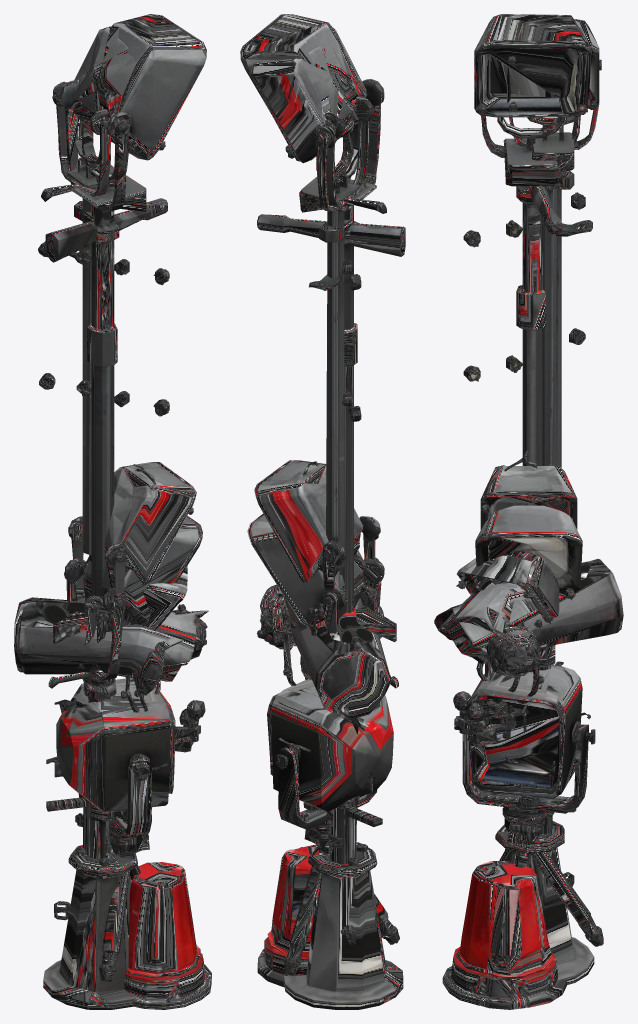
File: lamp_kit.glb
The picture shows the model from 3 angles, left to right: view 1: azimuth 30°, elevation 25°; view 2: azimuth 150°, elevation 25°; view 3: azimuth 270°, elevation 25°; orthographic projection. The views are drawn at different scales.
Parts seen in each view (by area): view 1: L7, L2, L5, L6, L3, L1, L0, L4; view 2: L7, L6, L5, L0, L3, L1, L4, L2; view 3: L7, L0, L5, L6, L2, L1, L3, L4.
Boxes of the visible parts, bbox=[...] form: L7: bbox=[38, 14, 206, 1009]; L2: bbox=[18, 600, 211, 1009]; L5: bbox=[56, 678, 175, 982]; L6: bbox=[41, 26, 187, 826]; L3: bbox=[53, 462, 196, 858]; L1: bbox=[46, 516, 202, 920]; L0: bbox=[14, 597, 211, 978]; L4: bbox=[46, 596, 167, 855]; L7: bbox=[240, 14, 405, 1009]; L6: bbox=[249, 46, 386, 862]; L5: bbox=[267, 679, 399, 975]; L0: bbox=[257, 596, 388, 987]; L3: bbox=[254, 460, 396, 663]; L1: bbox=[247, 513, 398, 945]; L4: bbox=[279, 584, 382, 864]; L2: bbox=[260, 584, 391, 860]; L7: bbox=[463, 14, 594, 984]; L0: bbox=[434, 558, 623, 1009]; L5: bbox=[454, 665, 603, 946]; L6: bbox=[456, 19, 601, 833]; L2: bbox=[438, 560, 593, 1005]; L1: bbox=[475, 505, 582, 886]; L3: bbox=[480, 451, 577, 672]; L4: bbox=[467, 550, 590, 828].
Size of the model in its own units: 0.1738 by 0.9902 by 0.1758.
1 material, 1 textured.
